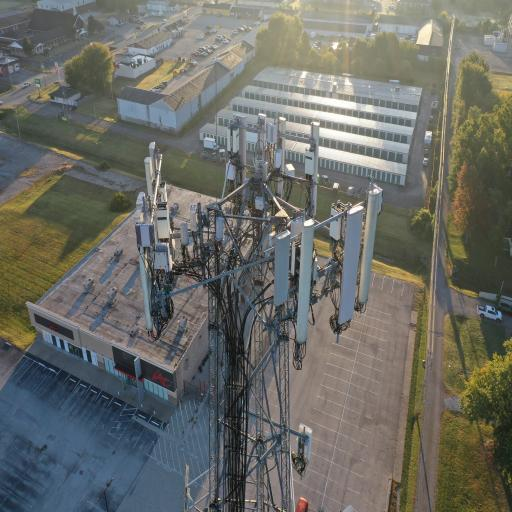supporting_tower: (134, 111, 383, 512)
